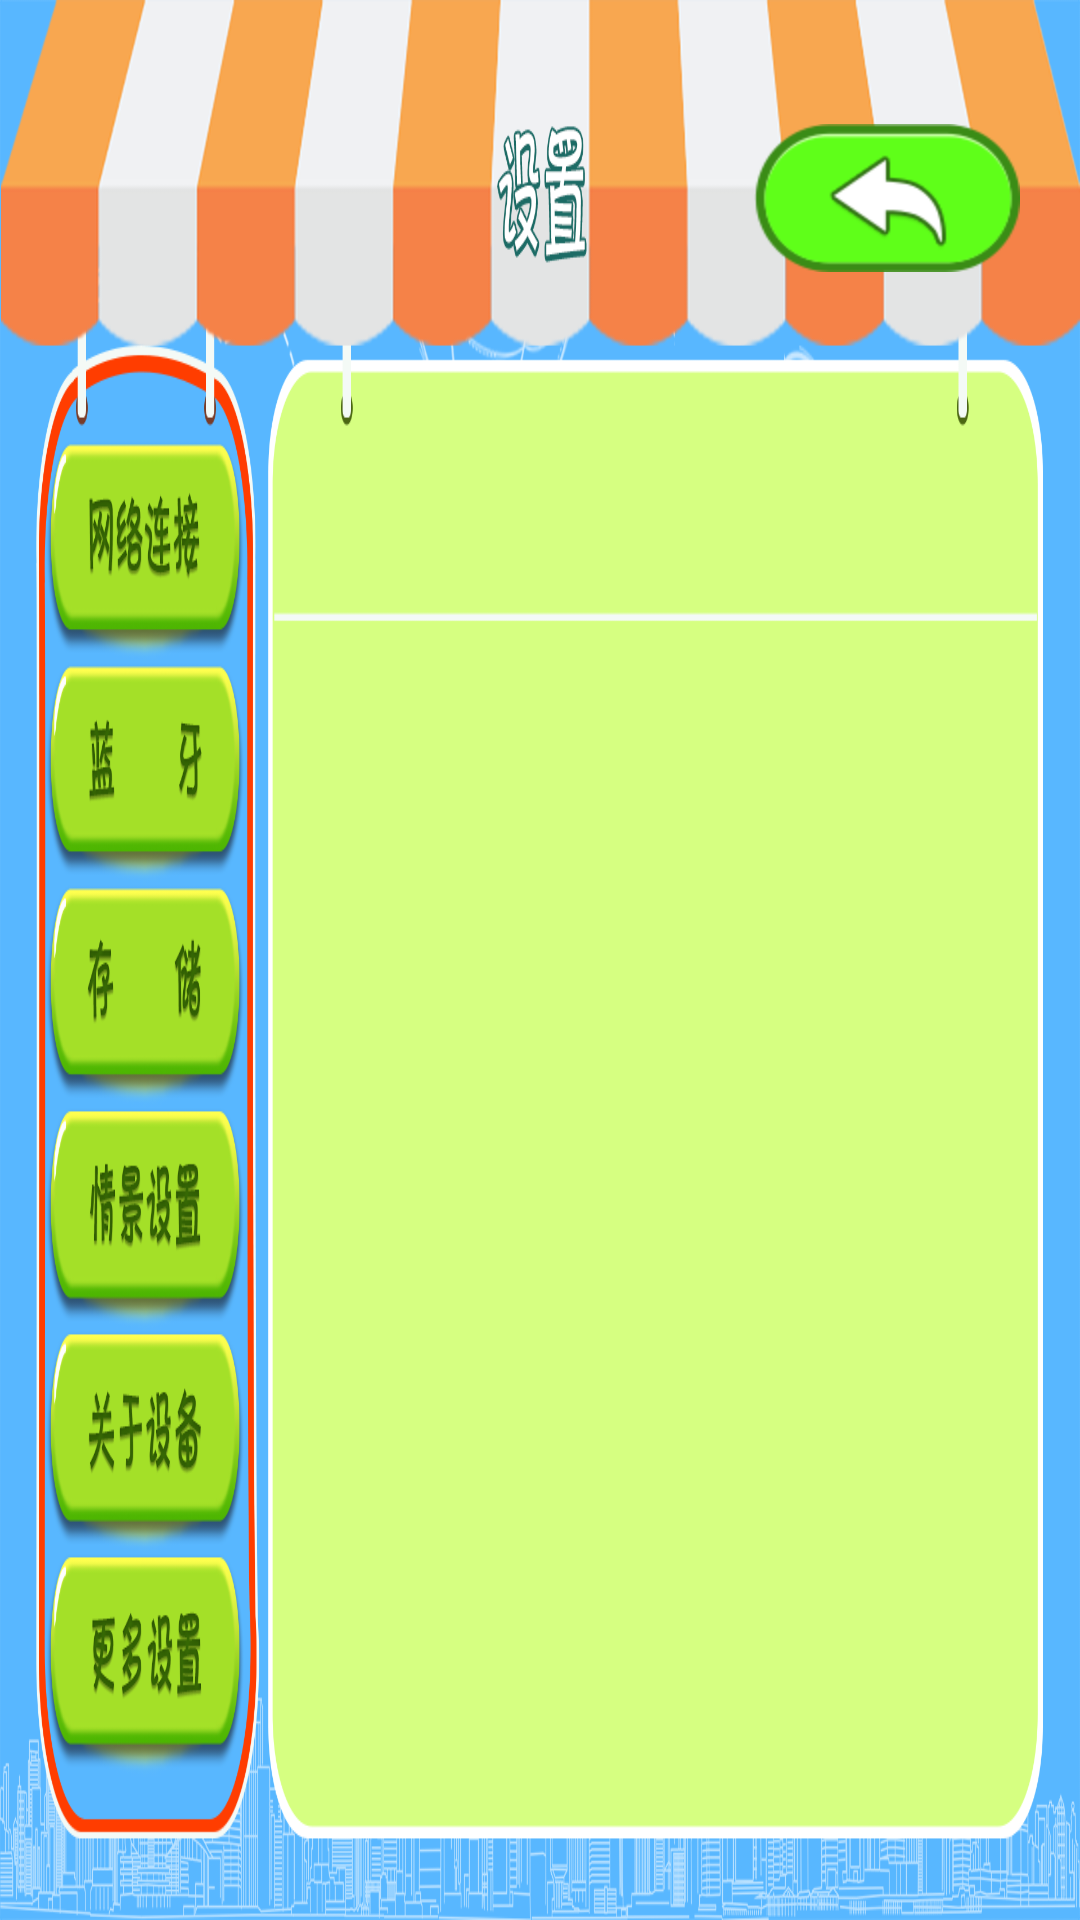

Icons on this 1080 x 1920 Android screen, each with the point to tap as point (x, y):
sele but go back: point (887, 213)
